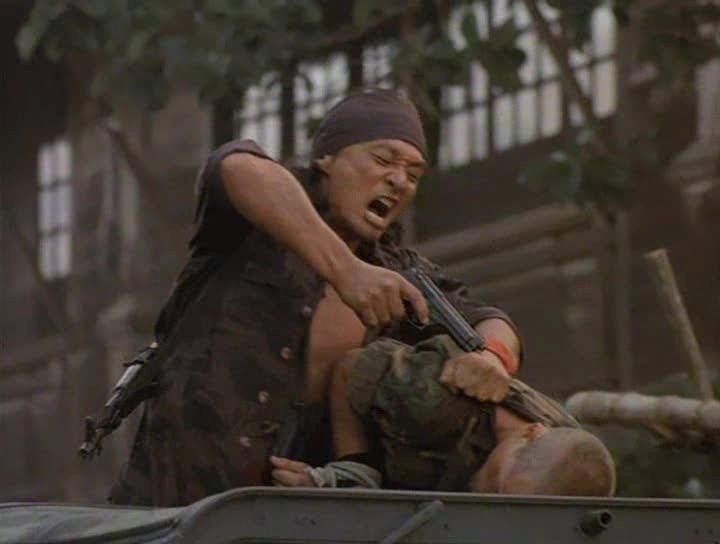gun: (66, 288, 169, 476), (362, 249, 503, 364)
